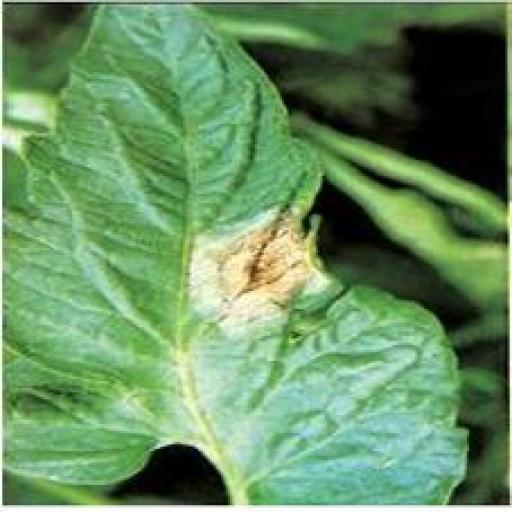Late Blight: (2, 2, 474, 508)
